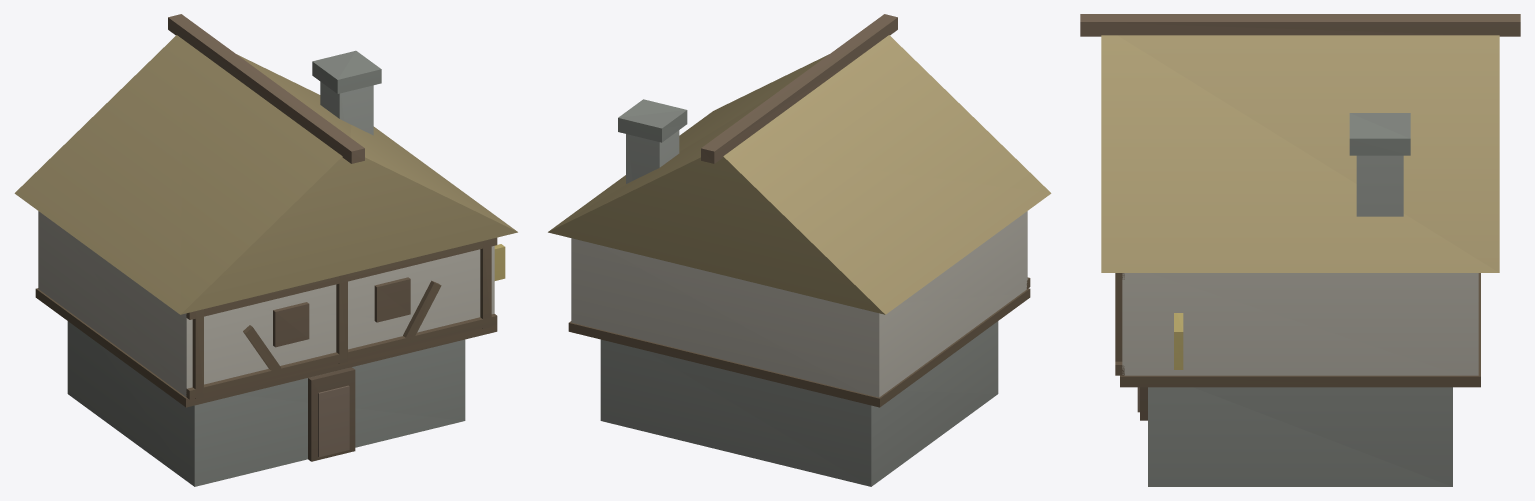
Rendered from tavern.glb.
3 renders of one model, left to right at view 1: azimuth 30°, elevation 25°; view 2: azimuth 150°, elevation 25°; view 3: azimuth 270°, elevation 25°, orthographic. The views are drawn at different scales.
Visible parts, largest first — view 1: tavern; view 2: tavern; view 3: tavern.
Part boxes in pixels (x1,y1,x2,y2): tavern: (14,14,517,486); tavern: (548,14,1051,486); tavern: (1080,14,1520,486).
Bounding box in the file's own units: 2.1 × 1.83 × 1.88.
